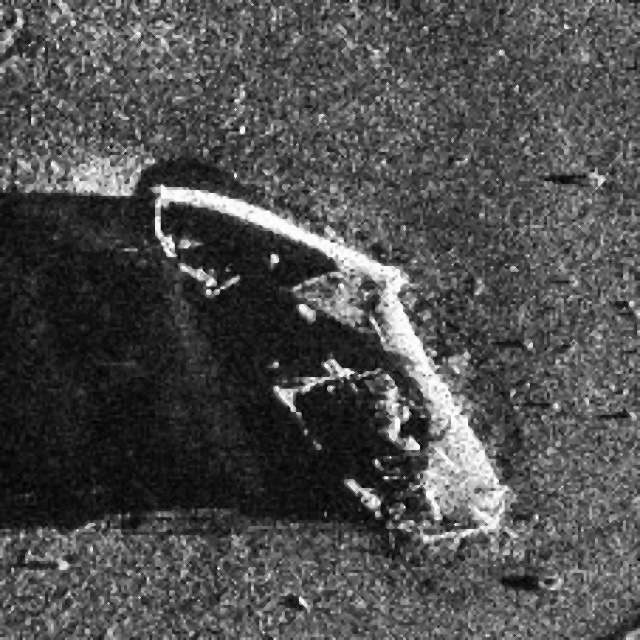Ship: (144, 176, 518, 564)
